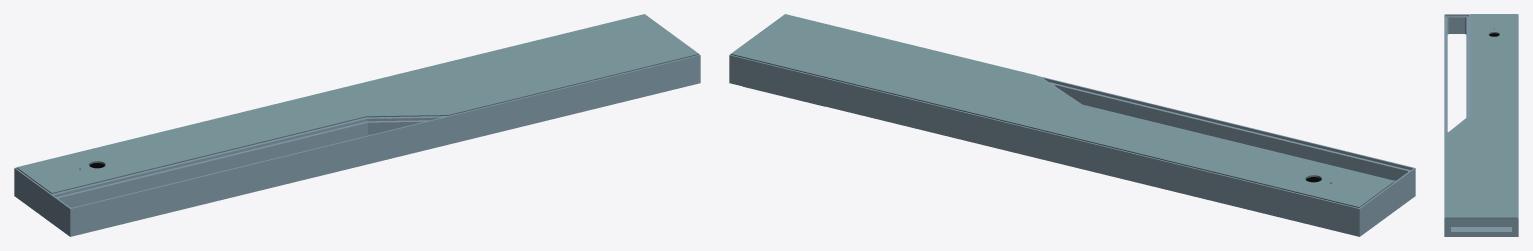
The picture shows the model from 3 angles, left to right: view 1: azimuth 30°, elevation 25°; view 2: azimuth 150°, elevation 25°; view 3: azimuth 270°, elevation 25°; orthographic projection. The views are drawn at different scales.
Parts seen in each view (by area): view 1: SketchUp_008, SketchUp_006, SketchUp_002, SketchUp_001, SketchUp; view 2: SketchUp_008, SketchUp_006, SketchUp_002, SketchUp_001, SketchUp; view 3: SketchUp_008, SketchUp_006, SketchUp_001, SketchUp_002, SketchUp_015, SketchUp.
Boxes of the visible parts, x1,y1,x2,y2 form: SketchUp_008: [17, 14, 698, 192]; SketchUp_006: [14, 54, 700, 236]; SketchUp_002: [59, 116, 447, 207]; SketchUp_001: [54, 117, 439, 206]; SketchUp: [16, 54, 698, 193]; SketchUp_008: [731, 14, 1393, 206]; SketchUp_006: [729, 54, 1415, 236]; SketchUp_002: [1054, 85, 1407, 180]; SketchUp_001: [1043, 78, 1412, 179]; SketchUp: [730, 54, 1394, 207]; SketchUp_008: [1445, 14, 1517, 217]; SketchUp_006: [1444, 14, 1518, 236]; SketchUp_001: [1445, 14, 1468, 134]; SketchUp_002: [1447, 17, 1466, 34]; SketchUp_015: [1451, 227, 1511, 231]; SketchUp: [1445, 217, 1517, 218].
Bounding box in the file's own units: 0.13 × 0.02 × 0.00631.
